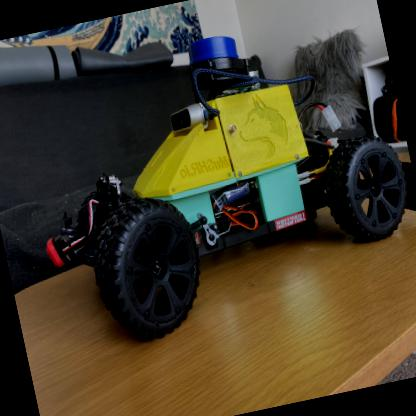mushr_car: (9, 1, 415, 362)
